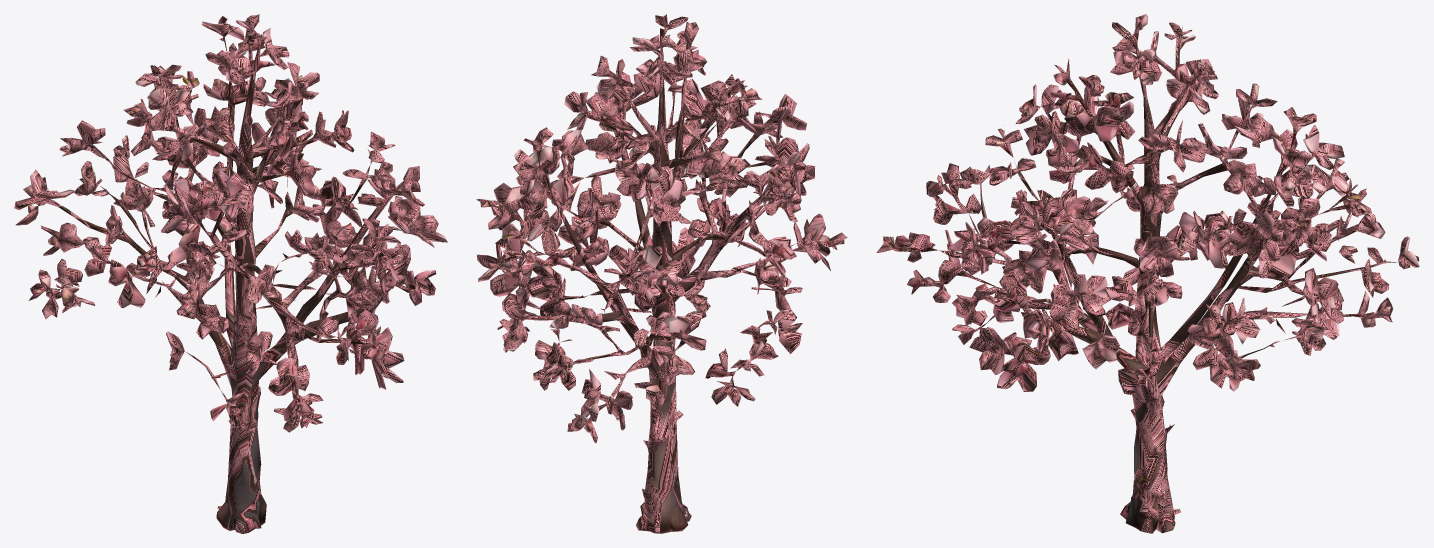
File: peach2-mid.glb
3 views of the same model, side by side, from view 1: azimuth 30°, elevation 25°; view 2: azimuth 150°, elevation 25°; view 3: azimuth 270°, elevation 25° (orthographic).
Size of the model in its own units: 0.6205 by 0.9976 by 0.9649.
Materials: 1 (1 with a texture image).
